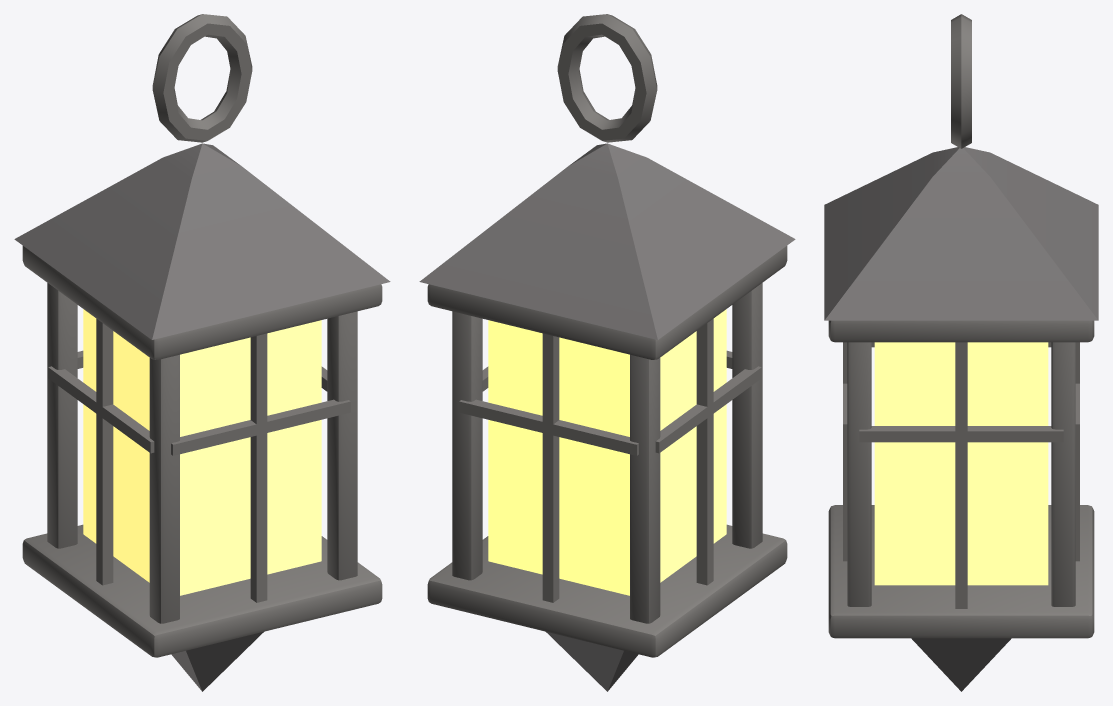
Rendered from SM_Area2_Lantern.glb.
The picture shows the model from 3 angles, left to right: view 1: azimuth 30°, elevation 25°; view 2: azimuth 150°, elevation 25°; view 3: azimuth 270°, elevation 25°; orthographic projection.
Parts seen in each view (by area): view 1: SM_Area2_Lantern; view 2: SM_Area2_Lantern; view 3: SM_Area2_Lantern.
Part boxes in pixels (x1,y1,x2,y2): SM_Area2_Lantern: (14,14,390,691); SM_Area2_Lantern: (419,14,795,691); SM_Area2_Lantern: (824,14,1098,691).
Size of the model in its own units: 1.34 by 3.65 by 1.34.
